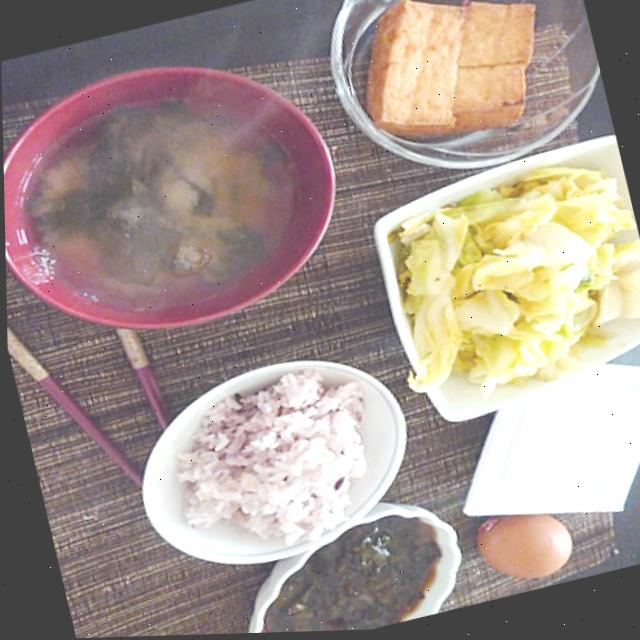蔬菜料理: (381, 147, 640, 411)
